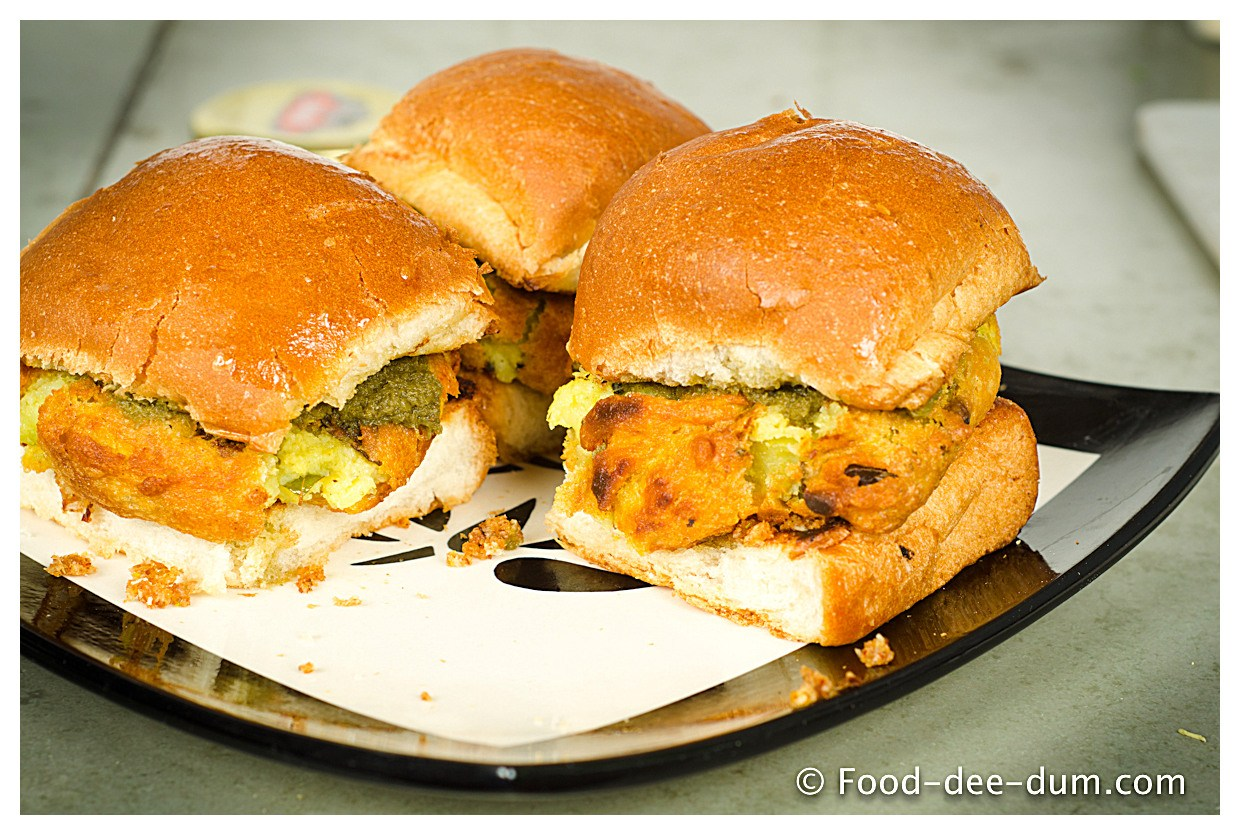vada pav: (580, 103, 1042, 605), (43, 133, 488, 575)
